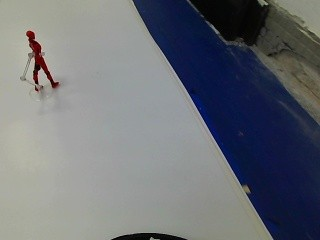pedestrian: (18, 29, 69, 92)
